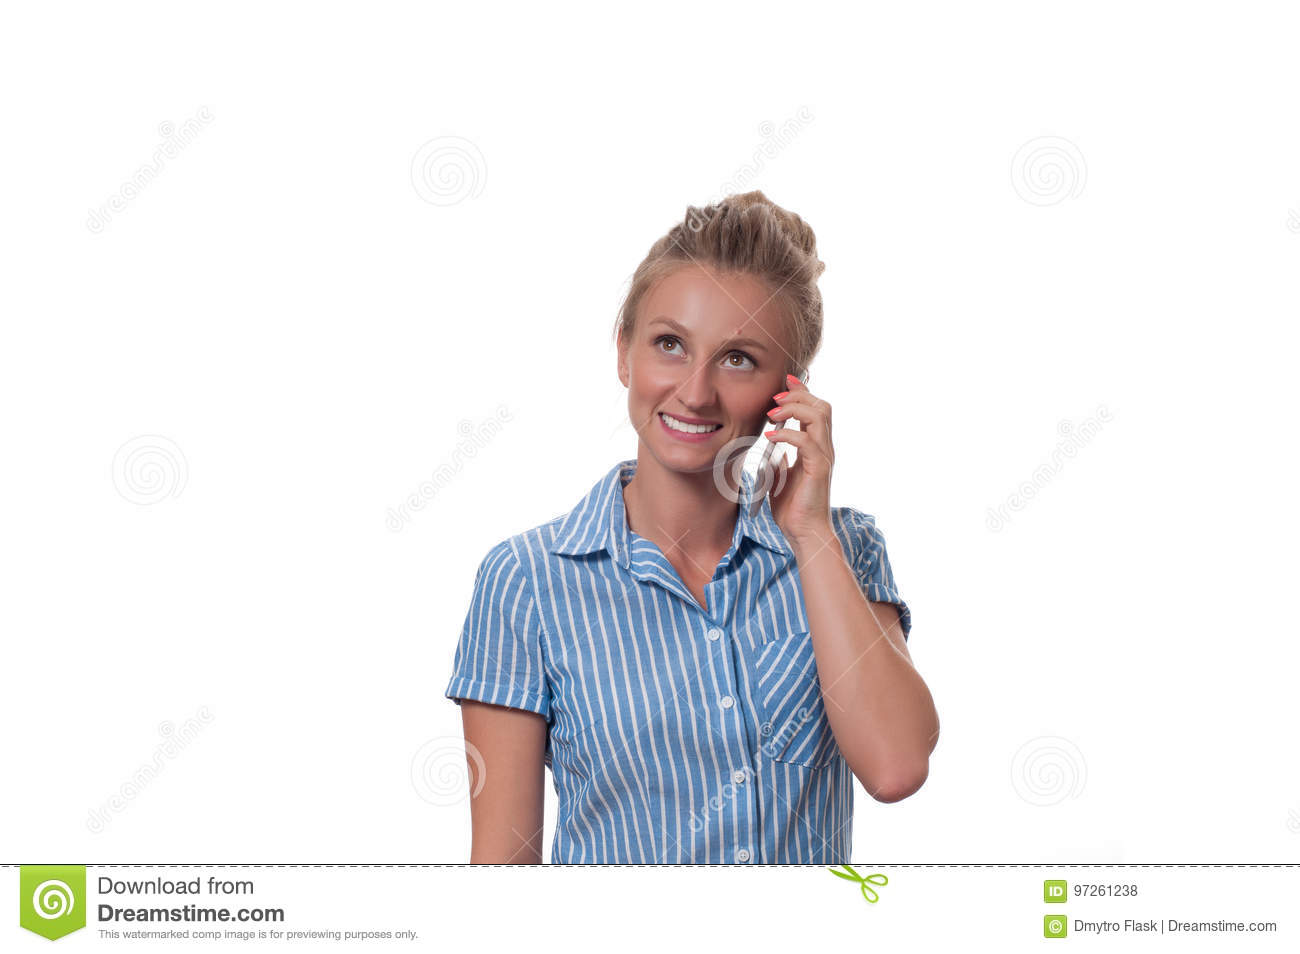phone: (747, 364, 808, 522)
talk: (627, 311, 841, 557)
